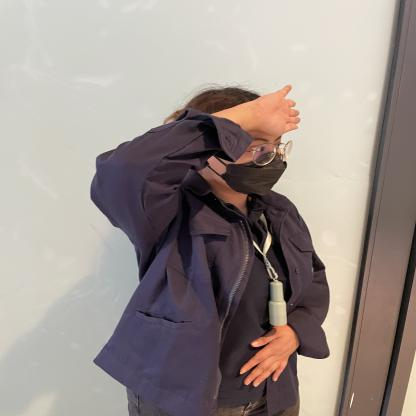Sick: (178, 72, 358, 160)
